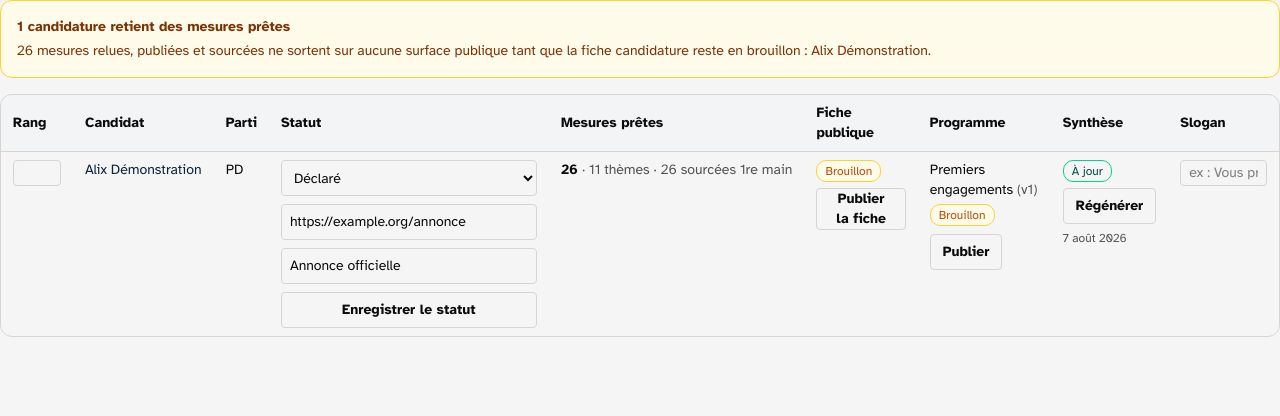
Test: CandidatesListClient › affiche l'échec d'une régénération au lieu de le taire
The image size is (1280, 416).
Click the button with aria-label "Régénérer la synthèse de Alix Démonstration" at (1110, 206), box [1063, 188, 1156, 224]
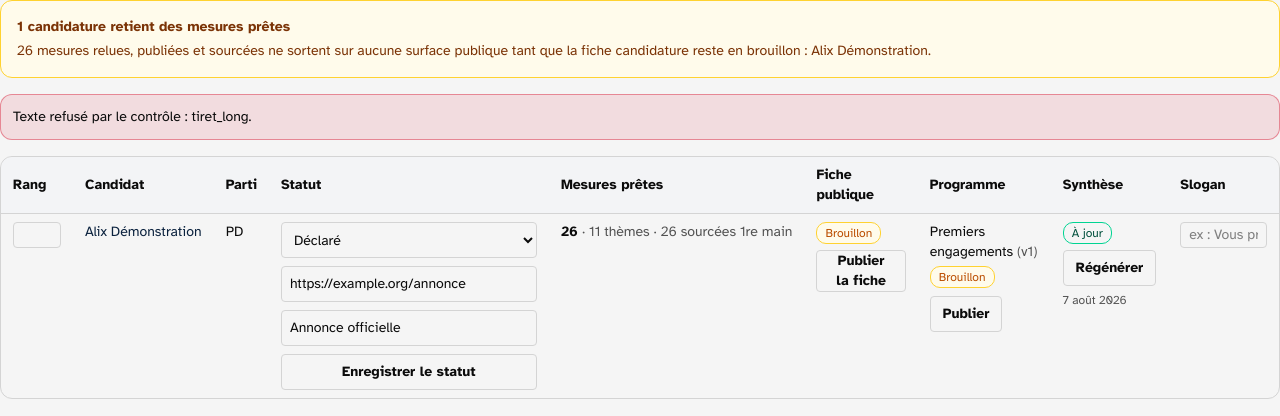
Now the message "Texte refusé par le contrôle : tiret_long." is shown, box [0, 94, 1279, 140]
